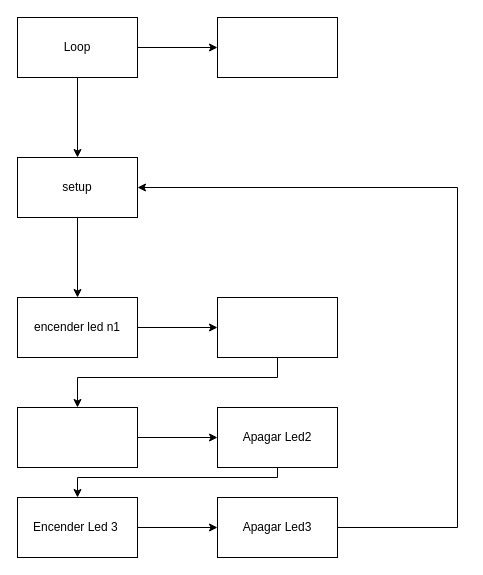
Image size: 483x575. Some labels were removed from this diagram. Each missing label, with the centre of its shape:
apagar led n1: pixel 277 327
declarar 3 leds: pixel 277 47
Encender led2: pixel 77 437
